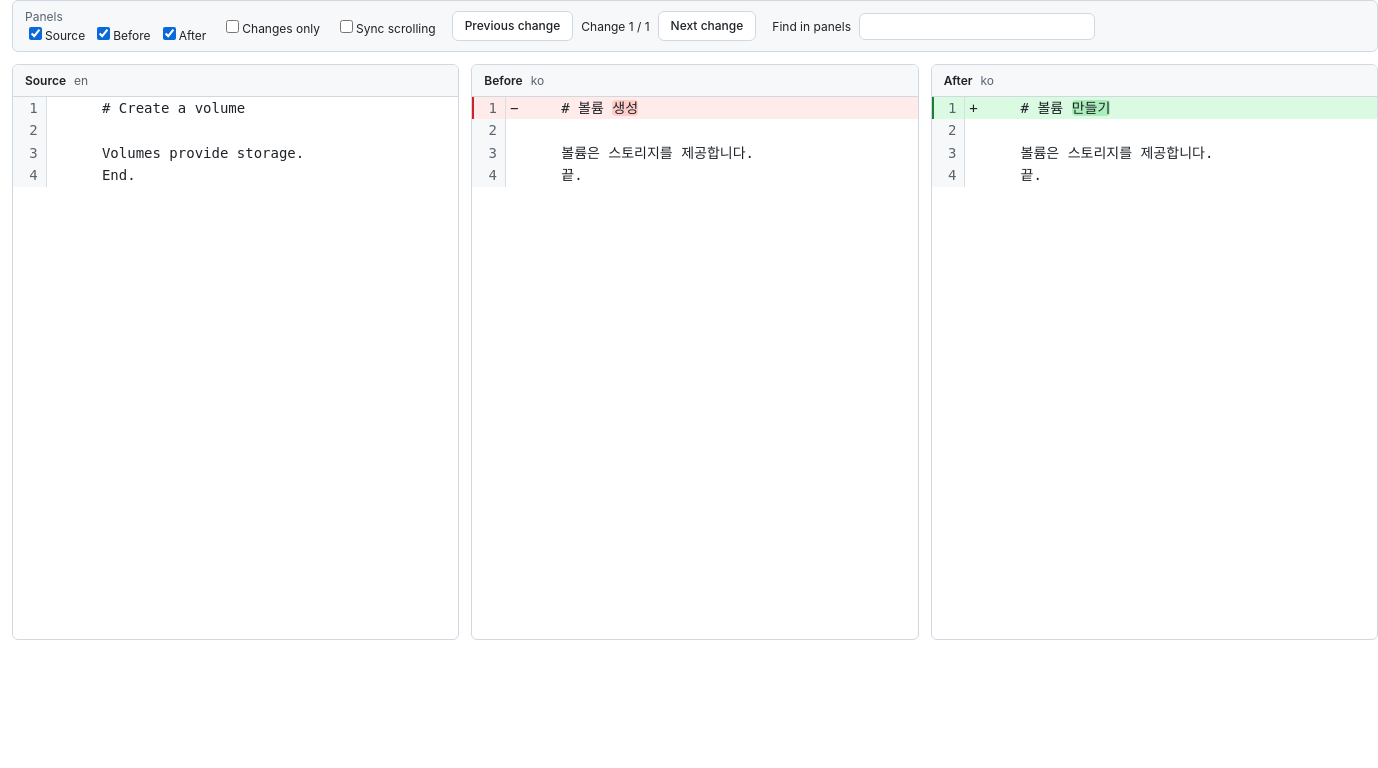
Test: changes only › disables scroll sync and explains why
The width and height of the screenshot is (1378, 768).
Step 1. Click the checkbox labelled "Changes only" → (233, 26), box [226,20,239,32]
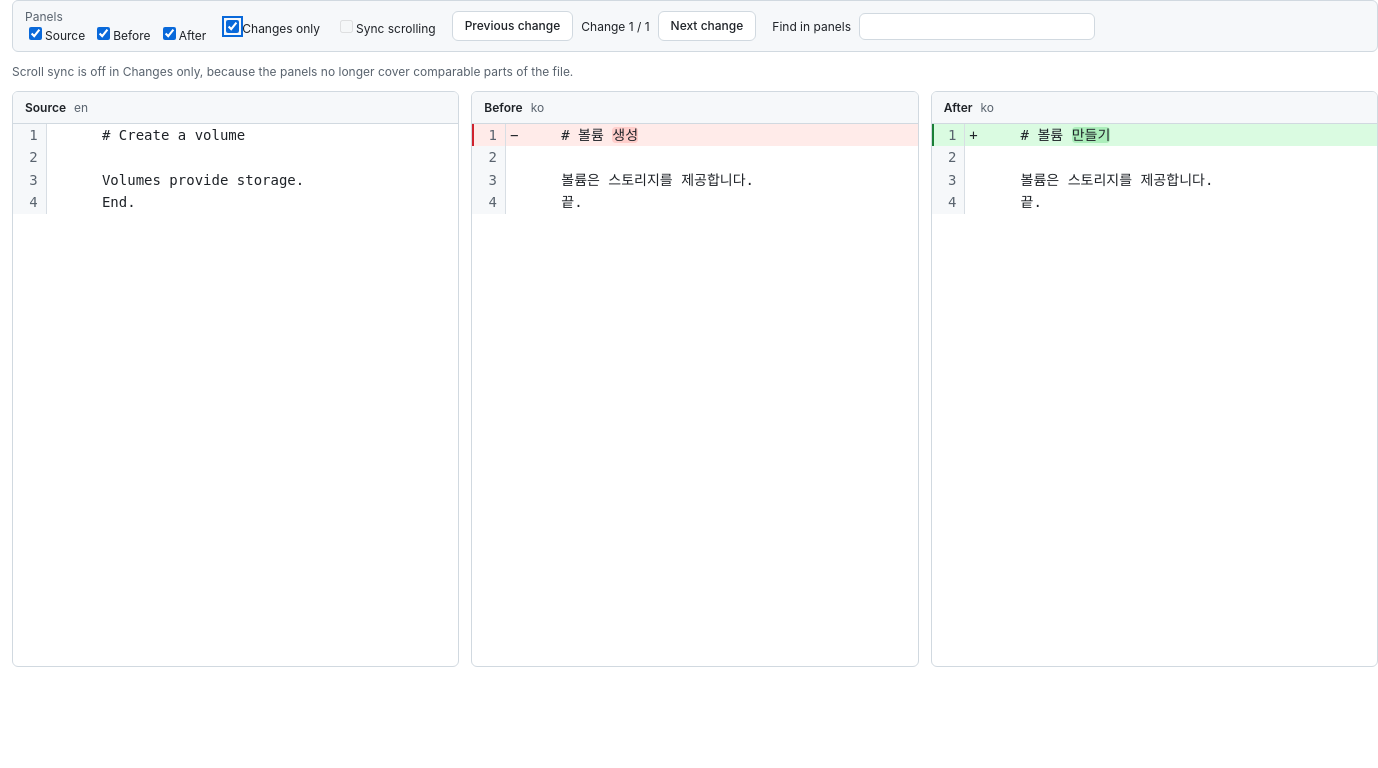
expect the checkbox labelled "Sync scrolling" is disabled: met, box [340,20,353,32]
expect the text "Scroll sync is off in Changes only" is shown: met, box [12,64,573,79]
